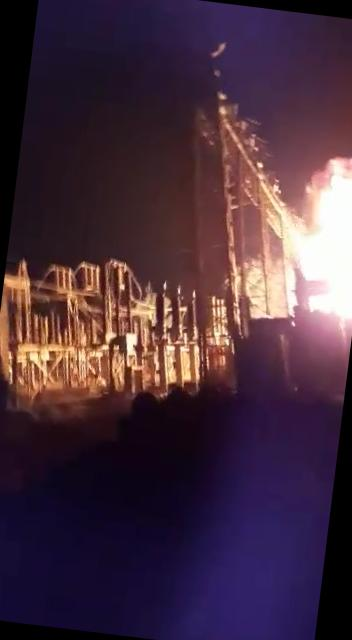Fire: (274, 146, 352, 330)
